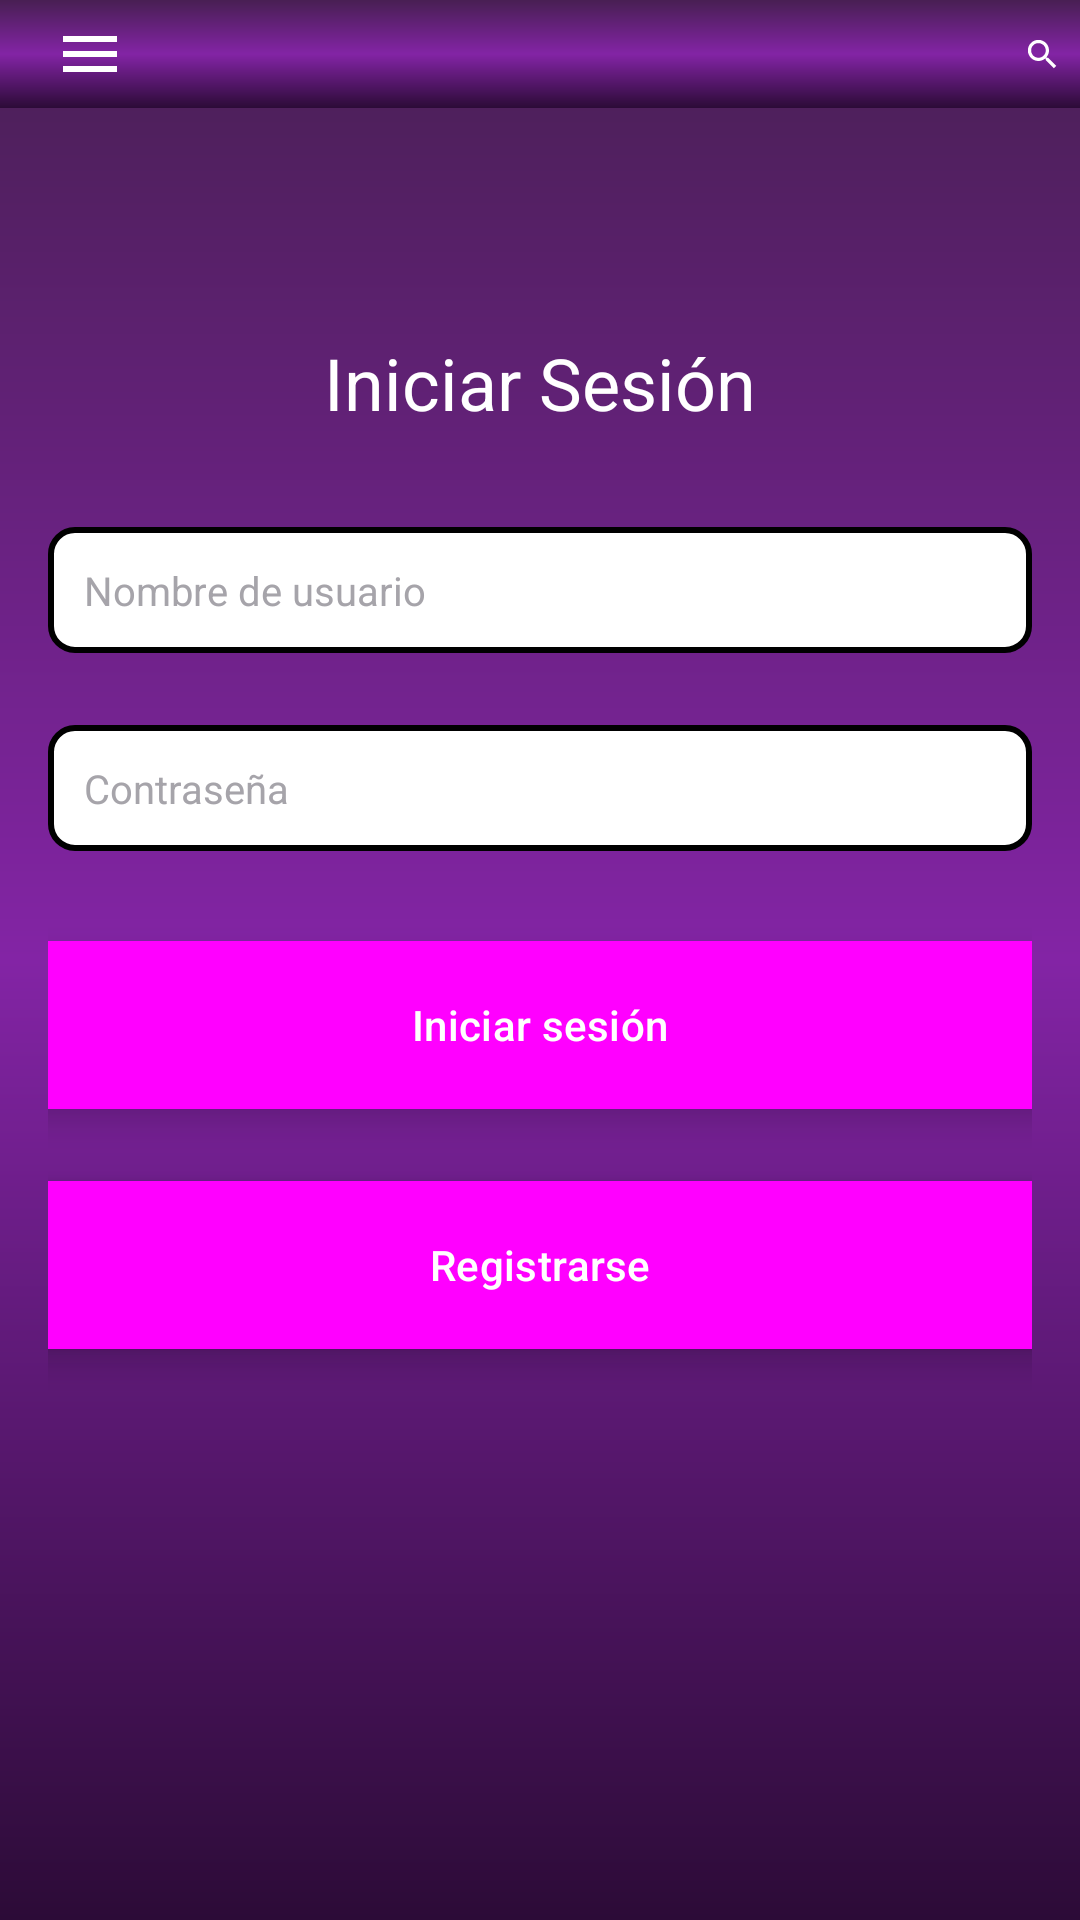

Screen size 1080*1920. Icon name, then its center in pixels as (x=x, y=y):
lupa: (x=1042, y=51)
menu: (x=90, y=52)
